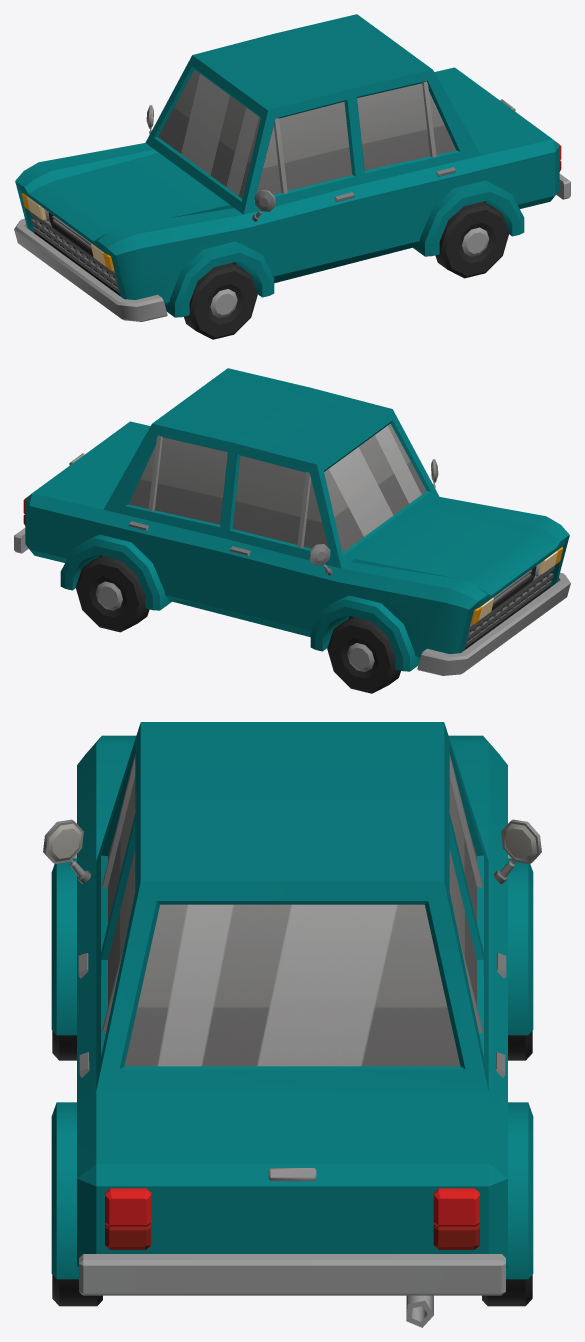
The model's file is Car_5_X.gltf.
The picture shows the model from 3 angles, top to bottom: view 1: azimuth 30°, elevation 25°; view 2: azimuth 150°, elevation 25°; view 3: azimuth 270°, elevation 25°; orthographic projection. The views are drawn at different scales.
Visible parts, largest first — view 1: Car_5_X, RR, FL; view 2: Car_5_X, RL, FR; view 3: Car_5_X, RR, RL.
Part boxes in pixels (x1,y1,x2,y2): Car_5_X: [14, 14, 570, 321]; RR: [435, 201, 509, 278]; FL: [184, 263, 257, 339]; Car_5_X: [14, 368, 570, 675]; RL: [75, 555, 149, 632]; FR: [327, 617, 400, 693]; Car_5_X: [43, 722, 541, 1327]; RR: [52, 1275, 102, 1306]; RL: [482, 1275, 532, 1306].
Size of the model in its own units: 3.55 by 1.45 by 1.67.
Materials: 4 (4 with a texture image).
